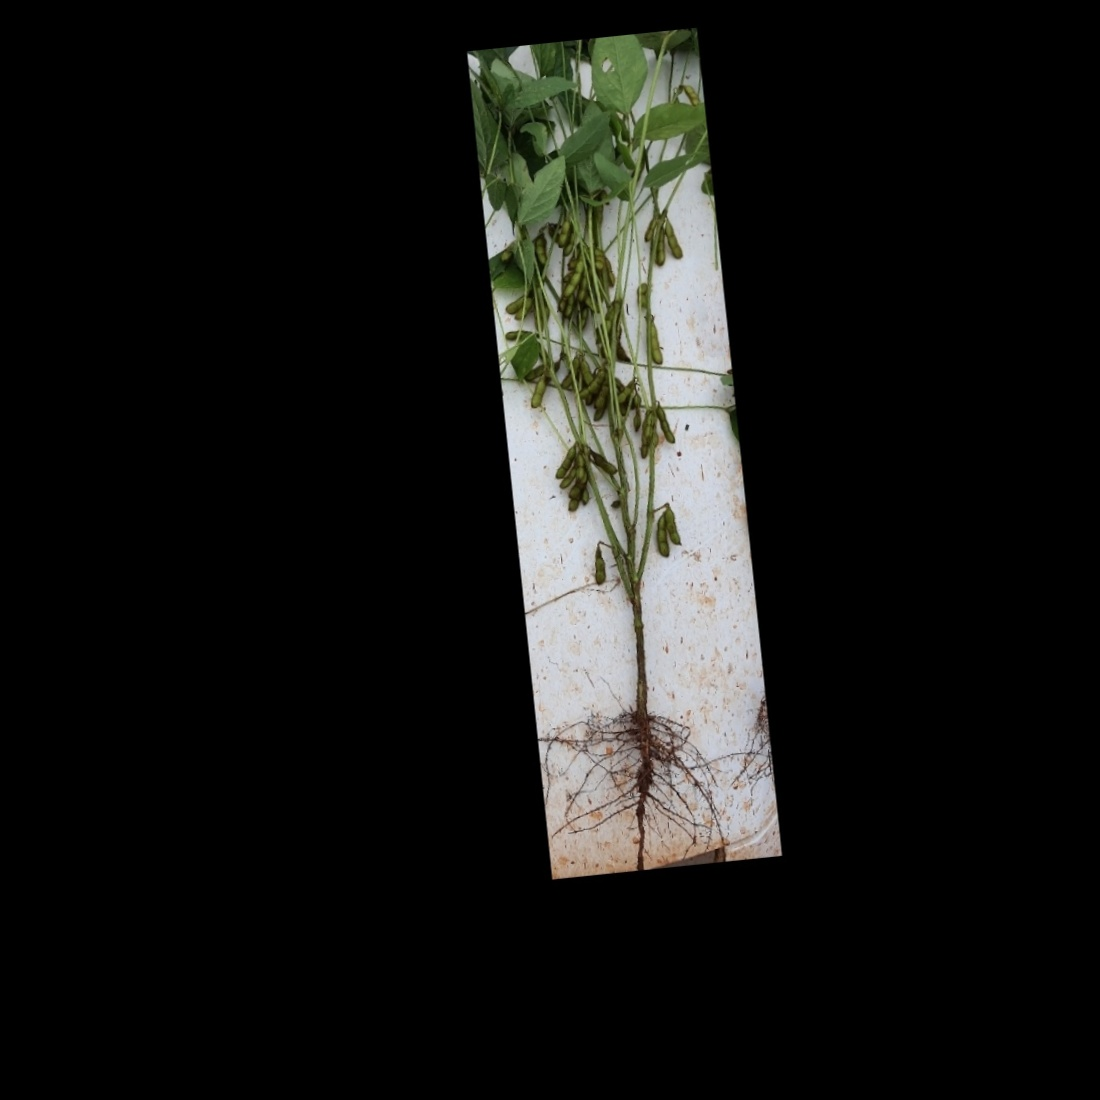pod: (555, 250, 590, 301), (547, 442, 586, 486), (570, 366, 613, 401), (643, 314, 671, 368), (652, 396, 677, 448), (585, 442, 622, 477), (555, 449, 586, 489), (662, 218, 688, 264), (651, 511, 673, 562), (523, 376, 550, 415), (662, 507, 688, 546), (586, 545, 610, 586), (553, 215, 575, 251)
soy: (475, 31, 774, 849)
